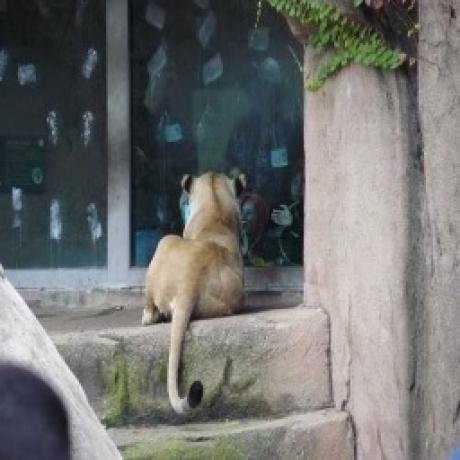Lion: (134, 158, 250, 416)
